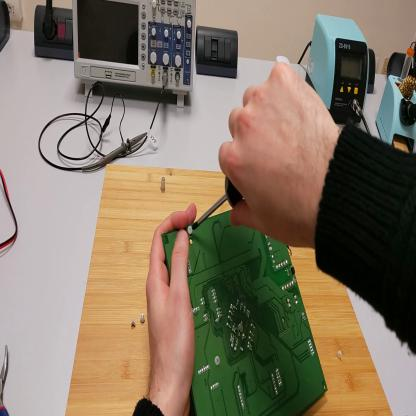hand: (219, 61, 333, 248), (145, 208, 198, 395)
low voltage board: (163, 209, 328, 416)
oscilloscope: (73, 1, 197, 110)
oscilloscope probe tip: (84, 130, 148, 170)
pliers: (2, 347, 15, 413)
screwdriver-: (193, 178, 244, 231)
socket: (34, 5, 75, 62), (388, 50, 416, 80), (1, 1, 12, 54), (368, 50, 379, 92)
welder base: (376, 50, 416, 149)
welder station: (306, 13, 370, 134)
working area: (70, 164, 395, 415)
